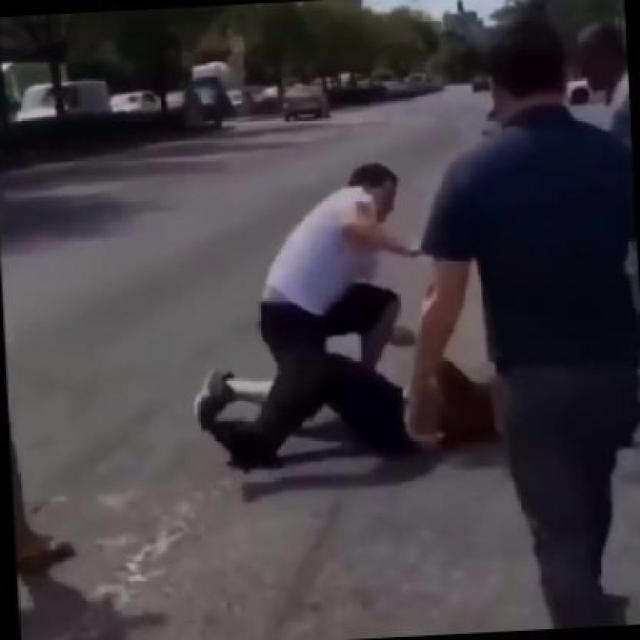fight: (197, 164, 509, 473)
non-fight: (404, 18, 640, 626)
